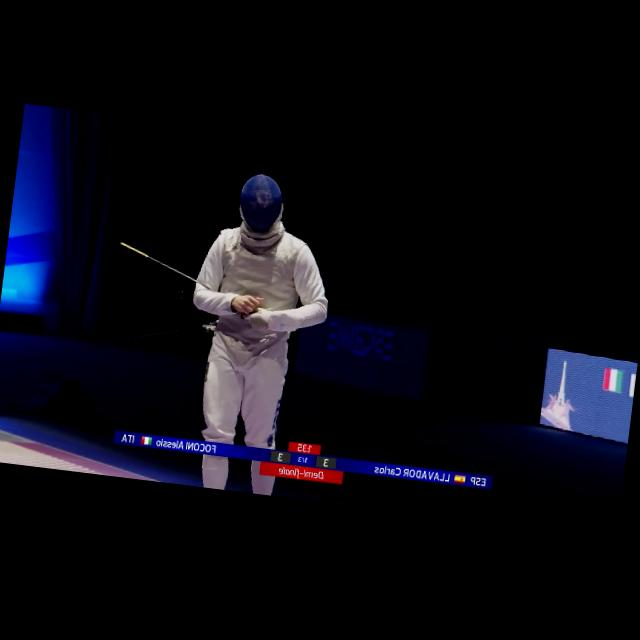blade: (110, 237, 266, 320)
